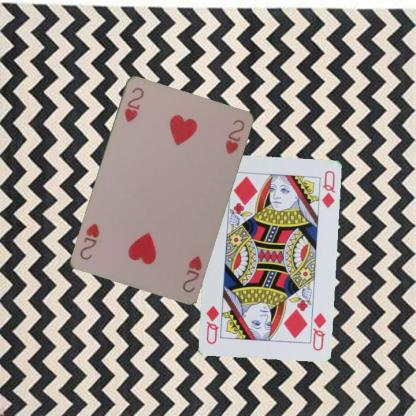2h: (178, 252, 204, 294), (121, 84, 145, 124)
Qd: (307, 307, 327, 352)
